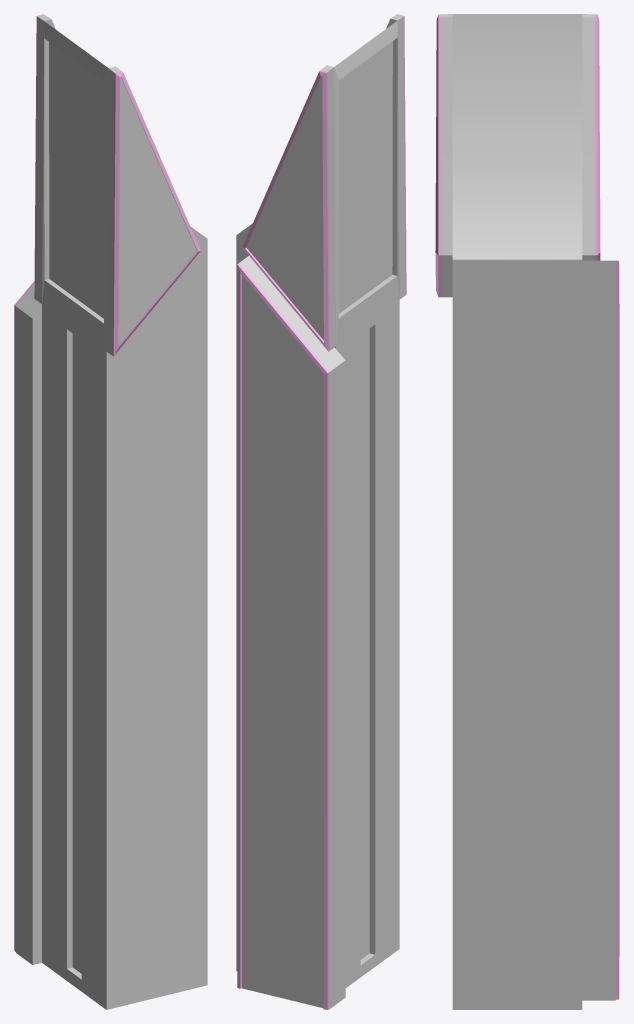
File: SM_Environment_Buildings_Tall_07.fbx
3 renders of one model, left to right at view 1: azimuth 30°, elevation 25°; view 2: azimuth 150°, elevation 25°; view 3: azimuth 270°, elevation 25°, orthographic. The views are drawn at different scales.
Parts seen in each view (by area): view 1: SM_Environment_Buildings_Tall_08, Lights; view 2: SM_Environment_Buildings_Tall_08, Lights; view 3: SM_Environment_Buildings_Tall_08, Lights.
Boxes of the visible parts, <box> form: SM_Environment_Buildings_Tall_08: <box>16,15,207,1009</box>; Lights: <box>14,14,200,951</box>; SM_Environment_Buildings_Tall_08: <box>236,15,405,1009</box>; Lights: <box>237,14,406,1009</box>; SM_Environment_Buildings_Tall_08: <box>441,14,615,1009</box>; Lights: <box>435,14,619,999</box>.
Size of the model in its own units: 6.57 by 53.3 by 9.38.
